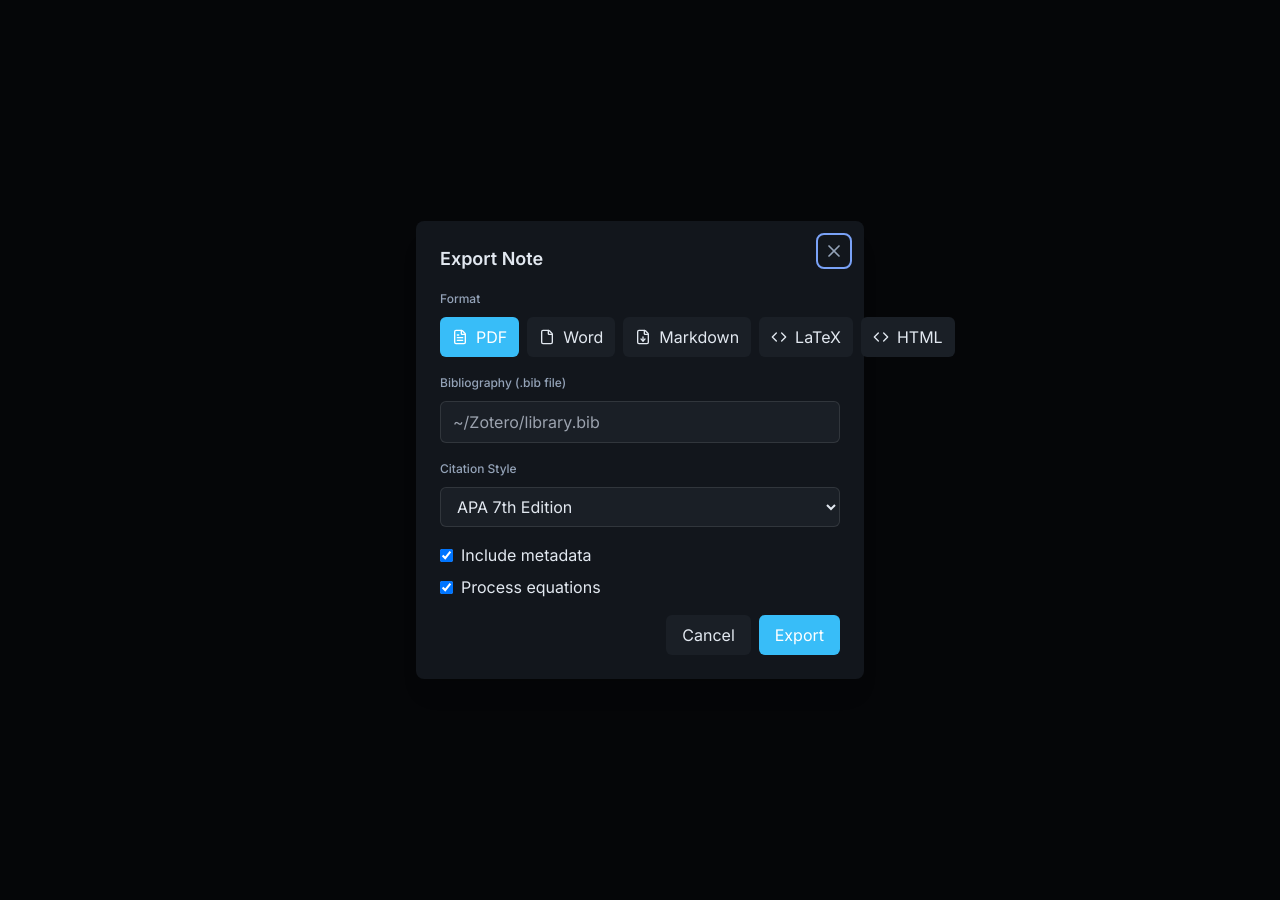
Test: ExportDialog Component › shows error message on failed export
Click the button "Export".
click(799, 635)  # box [759,615,840,655]
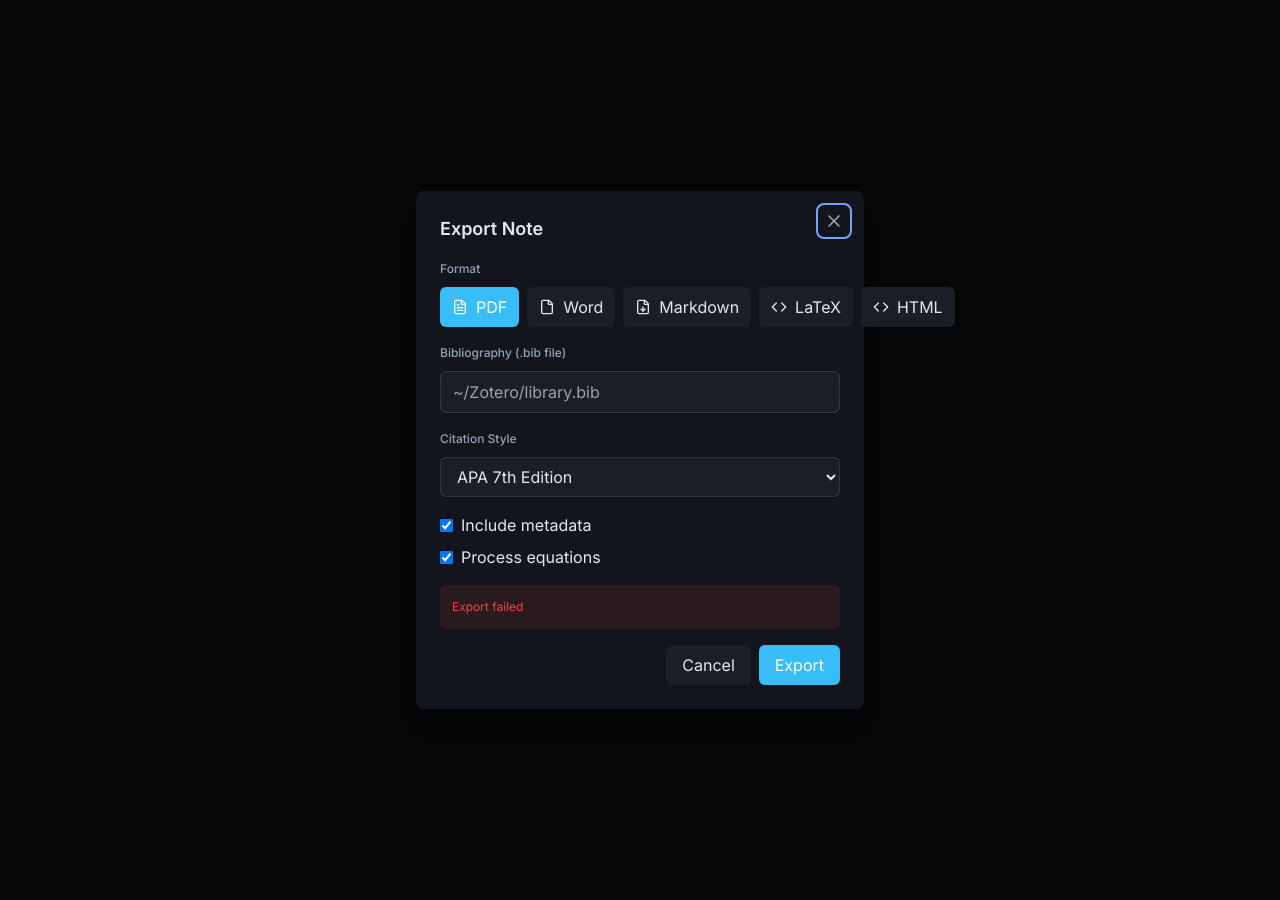
Check: the text "Export failed" is shown, box [440,585,840,629]
